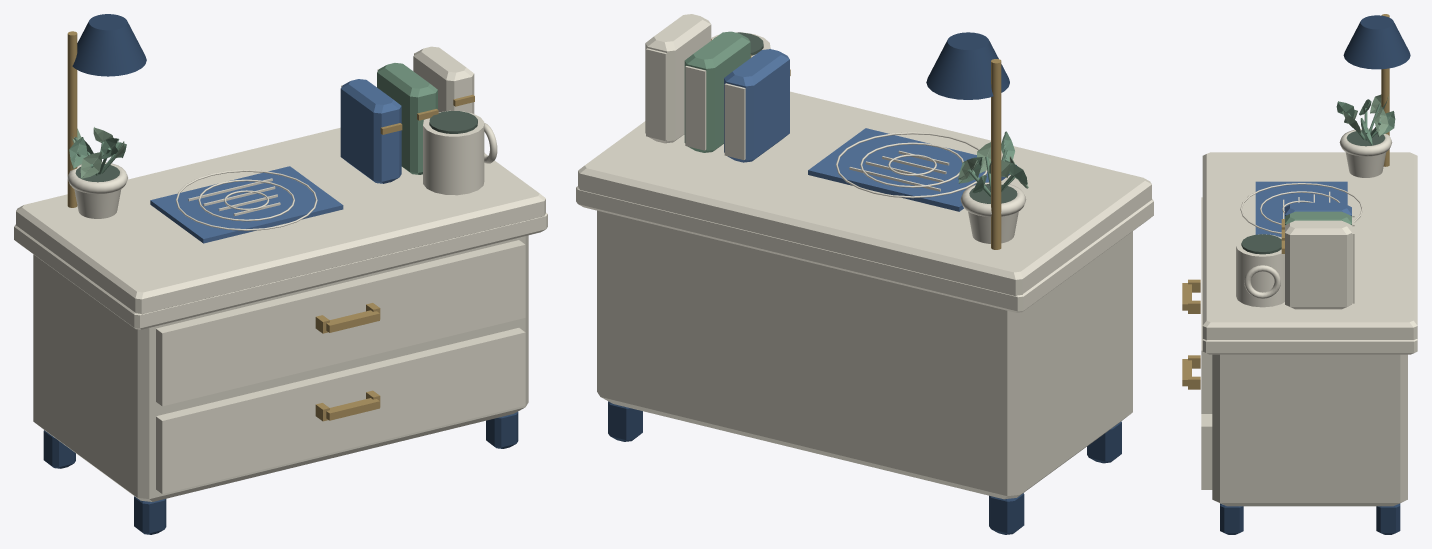
The model's file is v18_special_star_desk.glb.
3 views of the same model, side by side, from view 1: azimuth 30°, elevation 25°; view 2: azimuth 150°, elevation 25°; view 3: azimuth 270°, elevation 25° (orthographic). The views are drawn at different scales.
Visible parts, largest first — view 1: _MeshInstance3D_5190, _MeshInstance3D_5182, _MeshInstance3D_5186, _MeshInstance3D_5180, _MeshInstance3D_5181, _MeshInstance3D_5191, _MeshInstance3D_5199, _MeshInstance3D_5208, _MeshInstance3D_5239, _MeshInstance3D_5202, _MeshInstance3D_5205, _MeshInstance3D_5238 (+9 smaller); view 2: _MeshInstance3D_5180, _MeshInstance3D_5190, _MeshInstance3D_5181, _MeshInstance3D_5191, _MeshInstance3D_5199, _MeshInstance3D_5239, _MeshInstance3D_5205, _MeshInstance3D_5202, _MeshInstance3D_5238, _MeshInstance3D_5207, _MeshInstance3D_5204, _MeshInstance3D_5201 (+6 smaller); view 3: _MeshInstance3D_5180, _MeshInstance3D_5190, _MeshInstance3D_5205, _MeshInstance3D_5181, _MeshInstance3D_5191, _MeshInstance3D_5239, _MeshInstance3D_5208, _MeshInstance3D_5186, _MeshInstance3D_5182, _MeshInstance3D_5211, _MeshInstance3D_5178, _MeshInstance3D_5209 (+8 smaller).
Part boxes in pixels (x1,y1,x2,y2): _MeshInstance3D_5190: [16, 127, 545, 314]; _MeshInstance3D_5182: [156, 328, 525, 493]; _MeshInstance3D_5186: [156, 240, 525, 406]; _MeshInstance3D_5180: [33, 235, 528, 501]; _MeshInstance3D_5181: [14, 212, 547, 329]; _MeshInstance3D_5191: [150, 166, 343, 243]; _MeshInstance3D_5199: [340, 79, 401, 183]; _MeshInstance3D_5208: [423, 110, 484, 195]; _MeshInstance3D_5239: [72, 14, 146, 76]; _MeshInstance3D_5202: [377, 63, 437, 174]; _MeshInstance3D_5205: [413, 46, 474, 113]; _MeshInstance3D_5238: [67, 31, 77, 207]; _MeshInstance3D_5180: [597, 210, 1132, 499]; _MeshInstance3D_5190: [578, 91, 1151, 296]; _MeshInstance3D_5181: [576, 186, 1153, 312]; _MeshInstance3D_5191: [808, 128, 1016, 211]; _MeshInstance3D_5199: [724, 49, 789, 162]; _MeshInstance3D_5239: [926, 32, 1009, 99]; _MeshInstance3D_5205: [645, 14, 711, 143]; _MeshInstance3D_5202: [684, 31, 750, 152]; _MeshInstance3D_5238: [991, 59, 1001, 249]; _MeshInstance3D_5207: [646, 48, 666, 140]; _MeshInstance3D_5204: [685, 66, 706, 150]; _MeshInstance3D_5201: [724, 83, 745, 159]; _MeshInstance3D_5180: [1212, 354, 1407, 506]; _MeshInstance3D_5190: [1202, 152, 1417, 339]; _MeshInstance3D_5205: [1285, 220, 1351, 309]; _MeshInstance3D_5181: [1202, 339, 1417, 354]; _MeshInstance3D_5191: [1255, 181, 1347, 237]; _MeshInstance3D_5239: [1343, 15, 1410, 69]; _MeshInstance3D_5208: [1236, 234, 1284, 307]; _MeshInstance3D_5186: [1201, 197, 1212, 413]; _MeshInstance3D_5182: [1201, 414, 1212, 489]; _MeshInstance3D_5211: [1345, 152, 1386, 177]; _MeshInstance3D_5178: [1376, 503, 1400, 534]; _MeshInstance3D_5209: [1241, 234, 1281, 254].
Size of the model in its own units: 1.34 by 1.35 by 0.7608.
